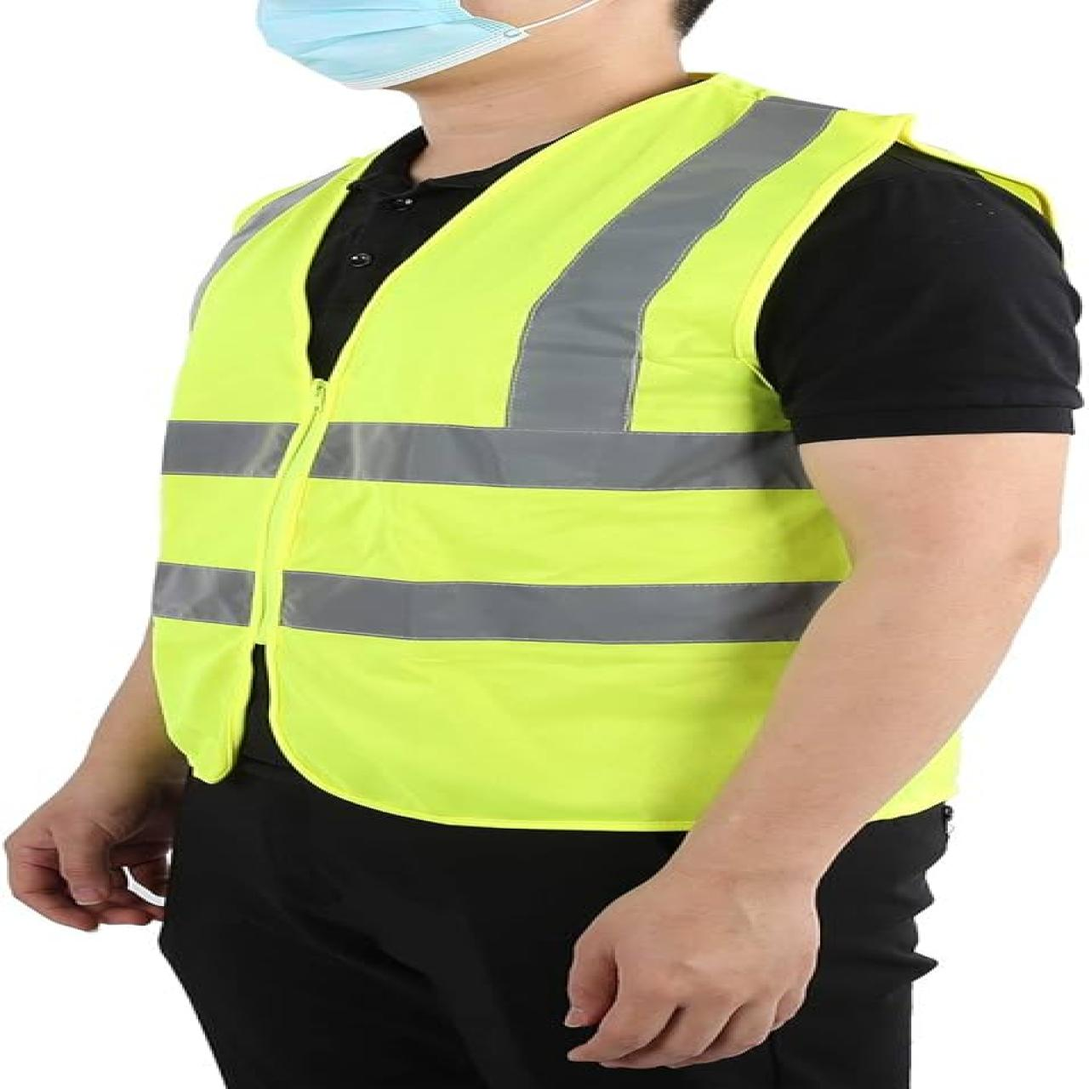Person: (0, 0, 1086, 1082)
Safety_Vest: (125, 81, 1013, 825)
